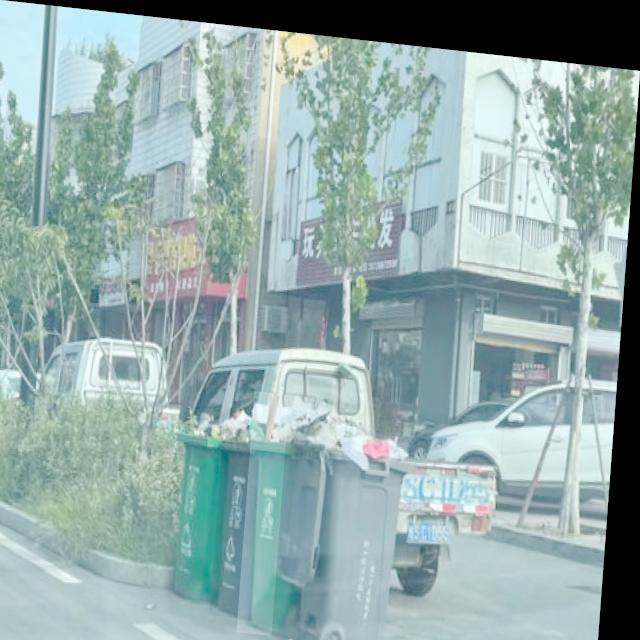overflow: (280, 401, 422, 640), (247, 385, 321, 631), (172, 412, 237, 596), (219, 401, 273, 613)
